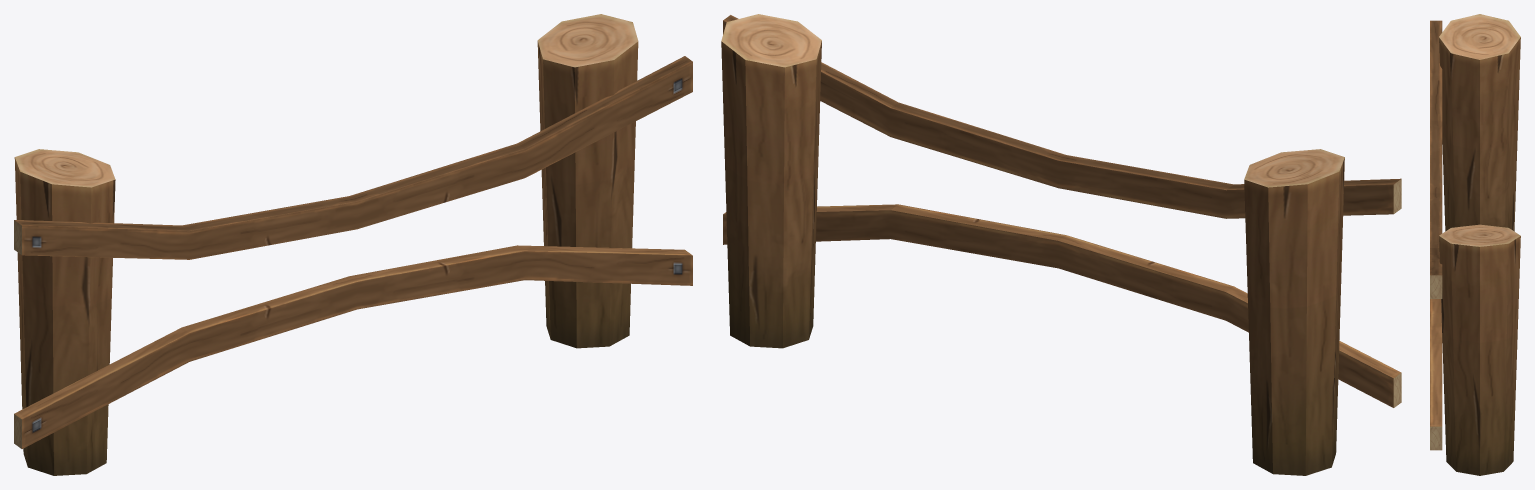
The model's file is wooden_fence_17.fbx.
The picture shows the model from 3 angles, left to right: view 1: azimuth 30°, elevation 25°; view 2: azimuth 150°, elevation 25°; view 3: azimuth 270°, elevation 25°; orthographic projection. The views are drawn at different scales.
Visible parts, largest first — view 1: wooden_fence_17:Mesh; view 2: wooden_fence_17:Mesh; view 3: wooden_fence_17:Mesh.
Part boxes in pixels (bbox=[...]): wooden_fence_17:Mesh: bbox=[14, 14, 692, 475]; wooden_fence_17:Mesh: bbox=[721, 14, 1401, 475]; wooden_fence_17:Mesh: bbox=[1430, 14, 1520, 475].
Bounding box in the file's own units: 6.98 × 2.96 × 1.05.
